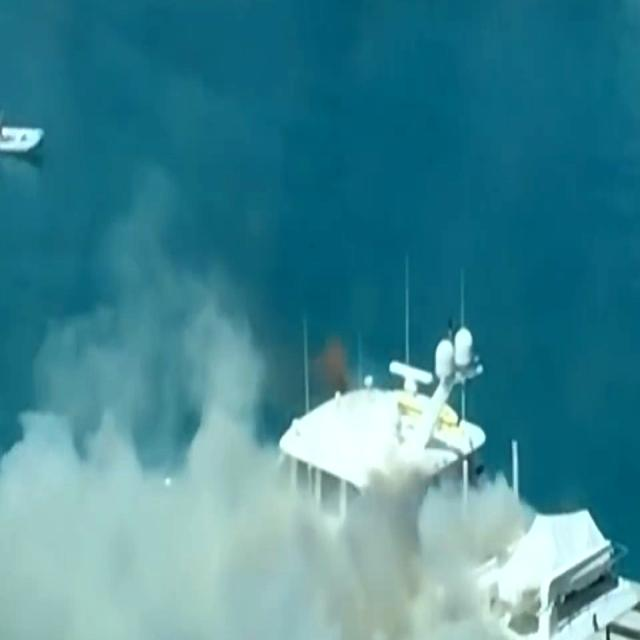smoke: (0, 406, 203, 640), (183, 474, 437, 640)
